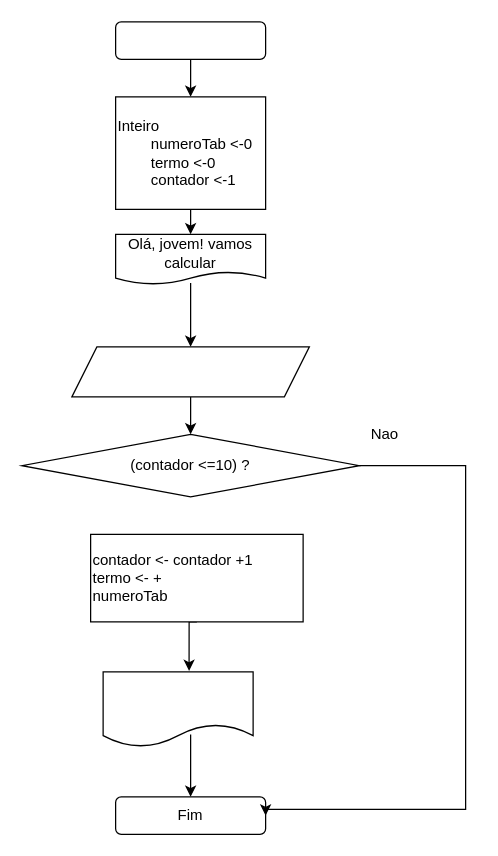
This 498x856 diagram has some shape labels left out. The shapes that lost their labels are listed below. From the top down, each one's box as (x1, y1, x2, y2) in pixels, then its label:
(114, 21, 266, 59): Inicio
(71, 346, 309, 397): Digite o numero
(102, 671, 253, 747): Escreva(termo)
